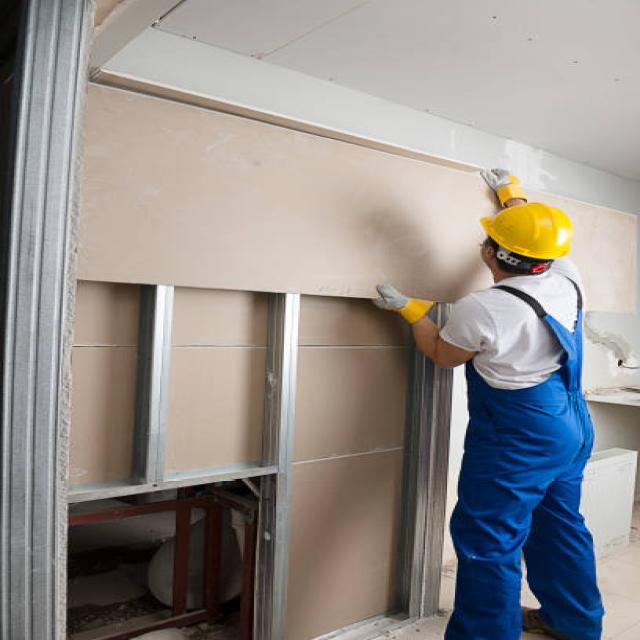gloves: (370, 285, 438, 322), (480, 167, 527, 208)
